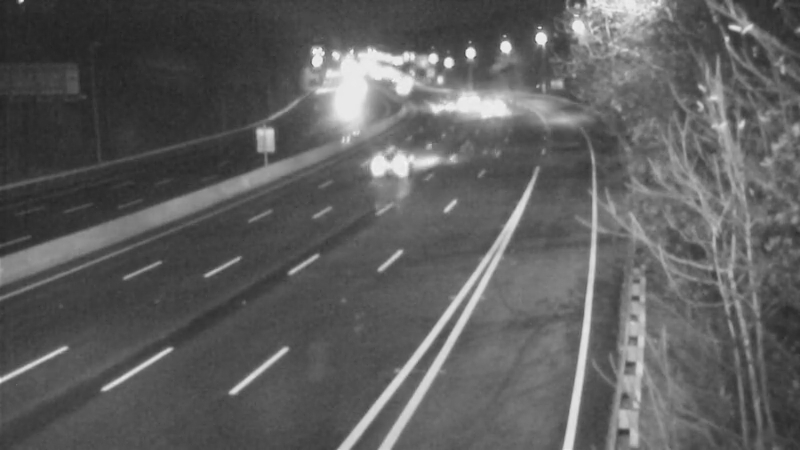vehicle: (345, 123, 425, 203), (376, 61, 426, 111), (441, 69, 491, 119), (414, 86, 464, 136), (468, 88, 518, 138)
